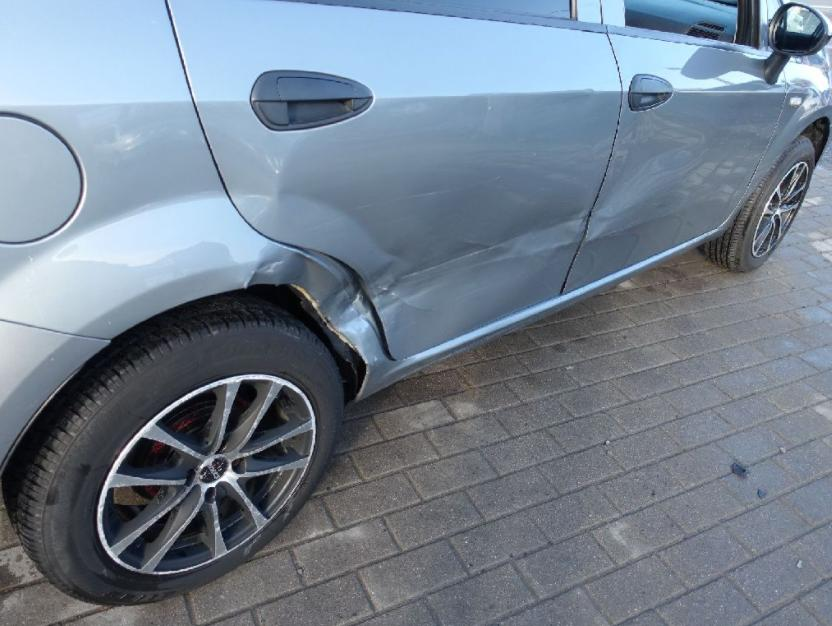Back-bumper: (0, 320, 104, 465)
Back-door: (164, 0, 624, 357)
Back-wheel: (2, 297, 344, 600)
Back-window: (313, 2, 571, 19)
Fender: (727, 63, 832, 222)
Front-door: (563, 0, 785, 288)
Front-wheel: (702, 138, 813, 268)
Front-window: (627, 1, 738, 44)
Mirror: (763, 3, 830, 79)
Quarter-panel: (0, 0, 389, 370)
Rocker-panel: (358, 223, 724, 400)
